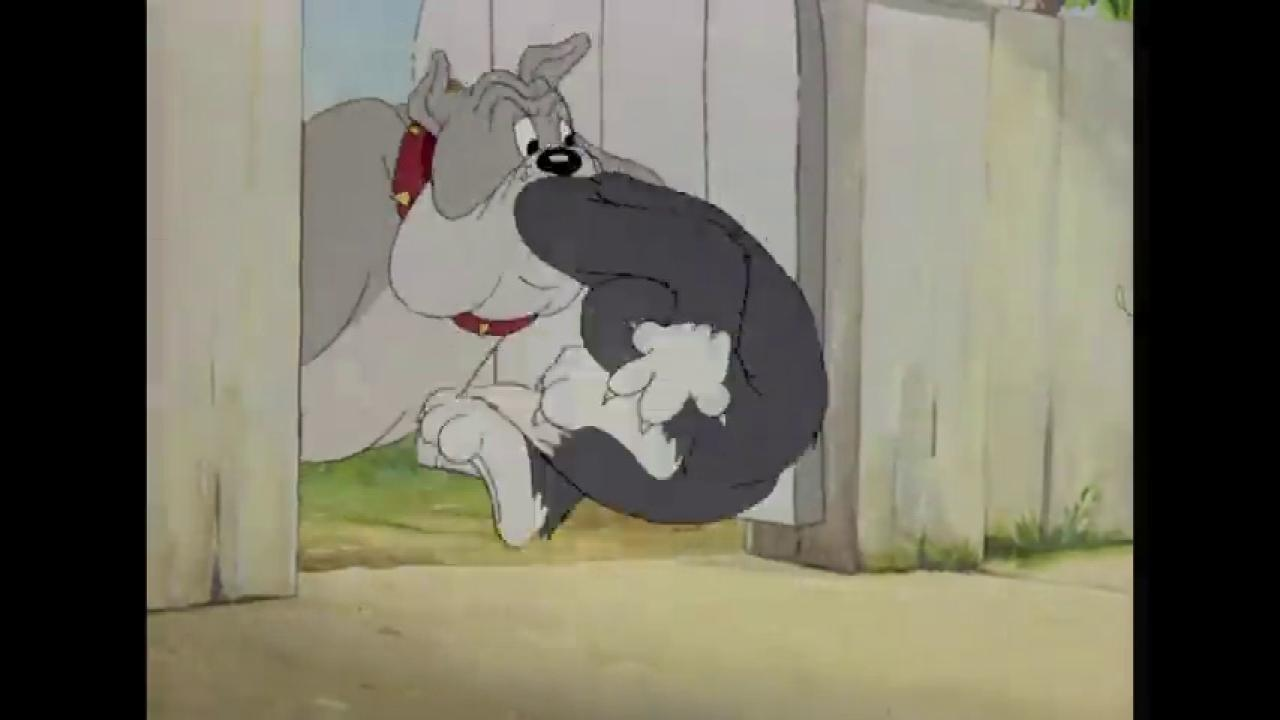Tom: (410, 169, 830, 550)
